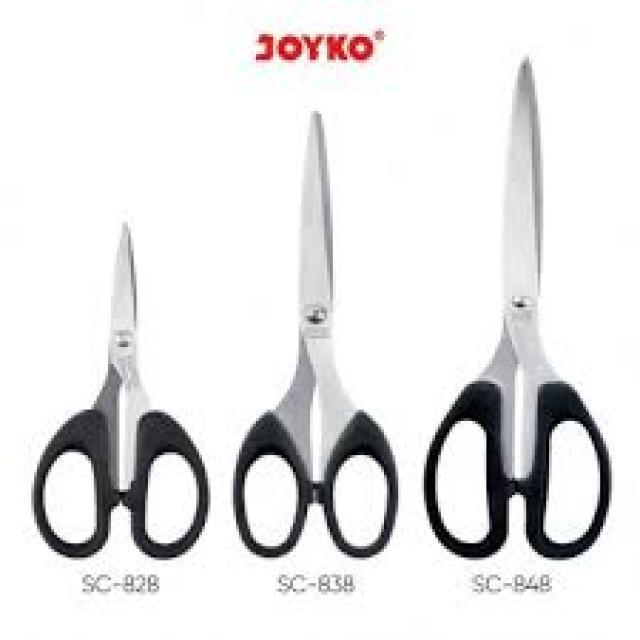Scissors: (410, 48, 624, 574), (222, 91, 410, 570), (24, 203, 218, 566)
